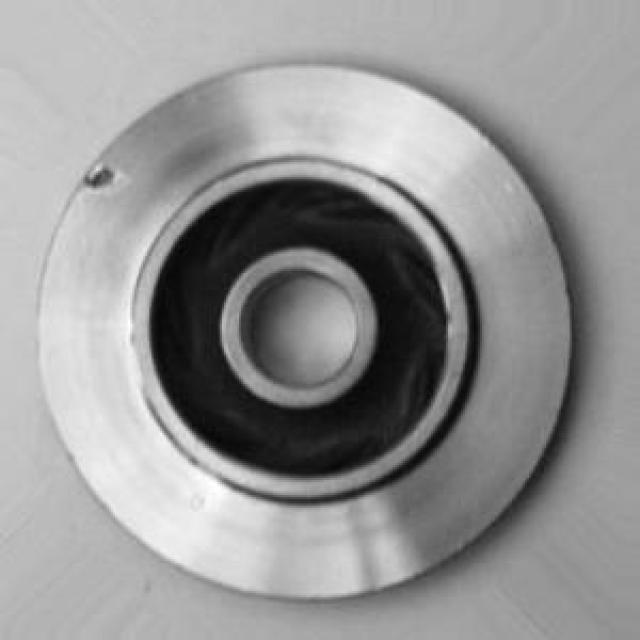Defect: (80, 158, 138, 196)
